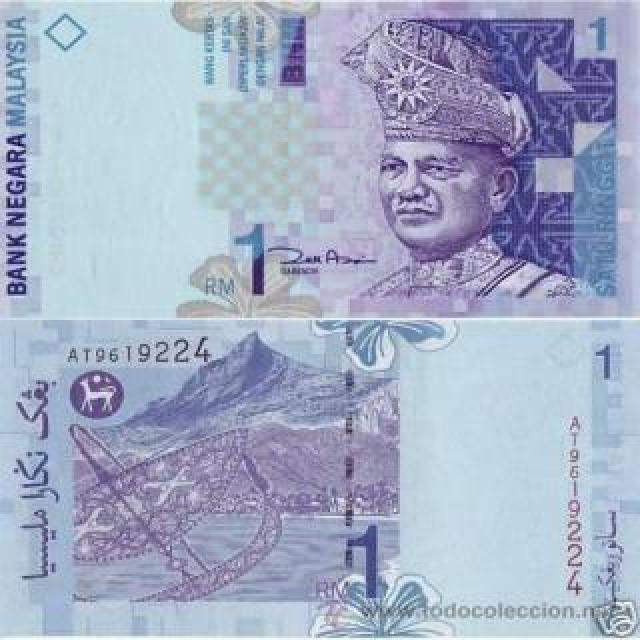1 Ringgit: (0, 318, 640, 640), (0, 0, 640, 318)
